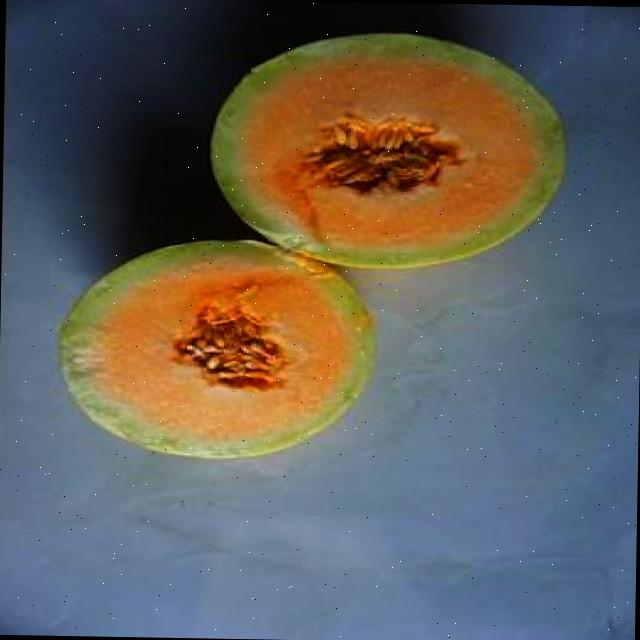Hami Melon: (206, 34, 562, 269), (58, 233, 374, 461)
